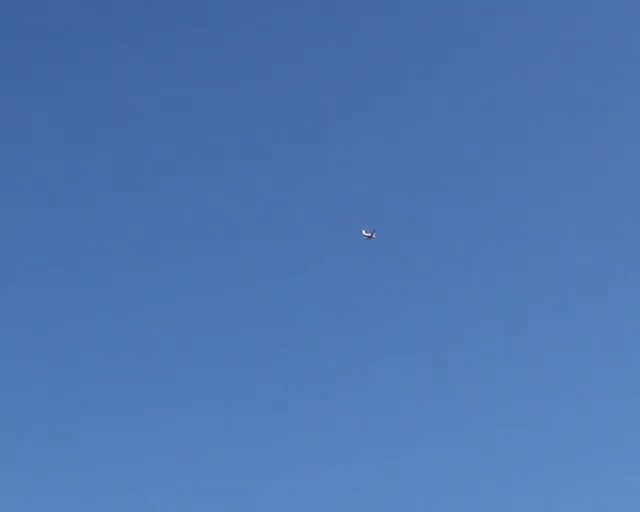AIRPLANE: (361, 227, 376, 239)
